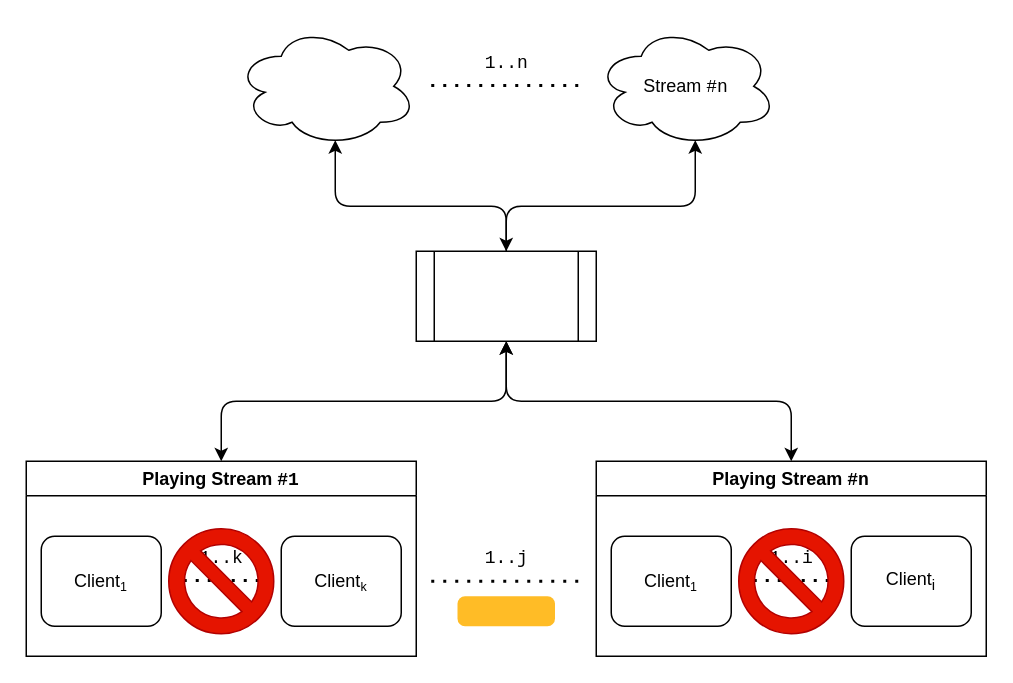
The diagram is 1013 pixels wide and 683 high, and some of its shapes have lost their labels. Each missing label, with the centre of its shape:
"AceStream Server" goes at [505,295].
"Stream #1" goes at [325,85].
"Warning" goes at [505,611].
